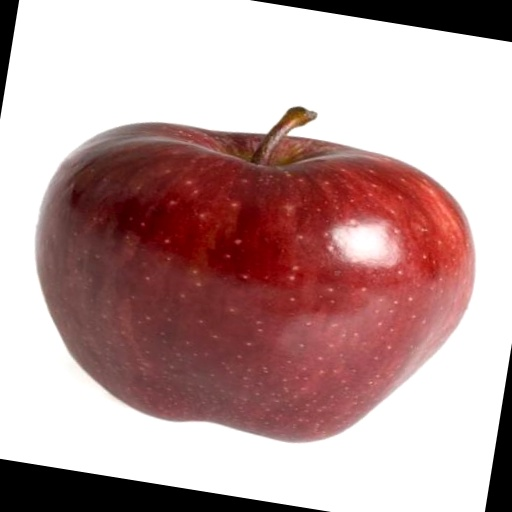fruit: (35, 108, 473, 441)
